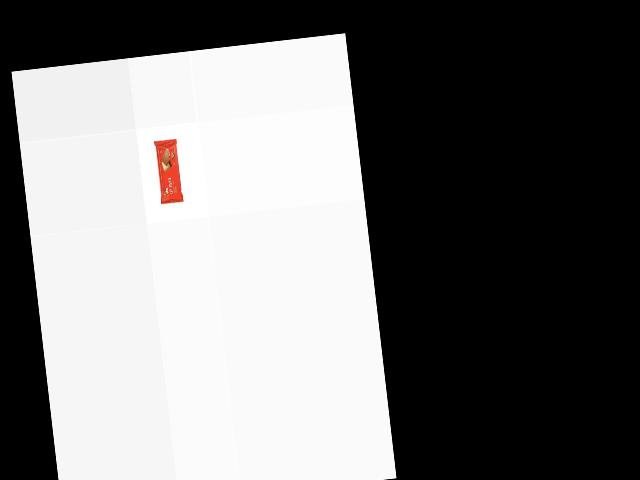chocolate: (154, 139, 184, 206)
